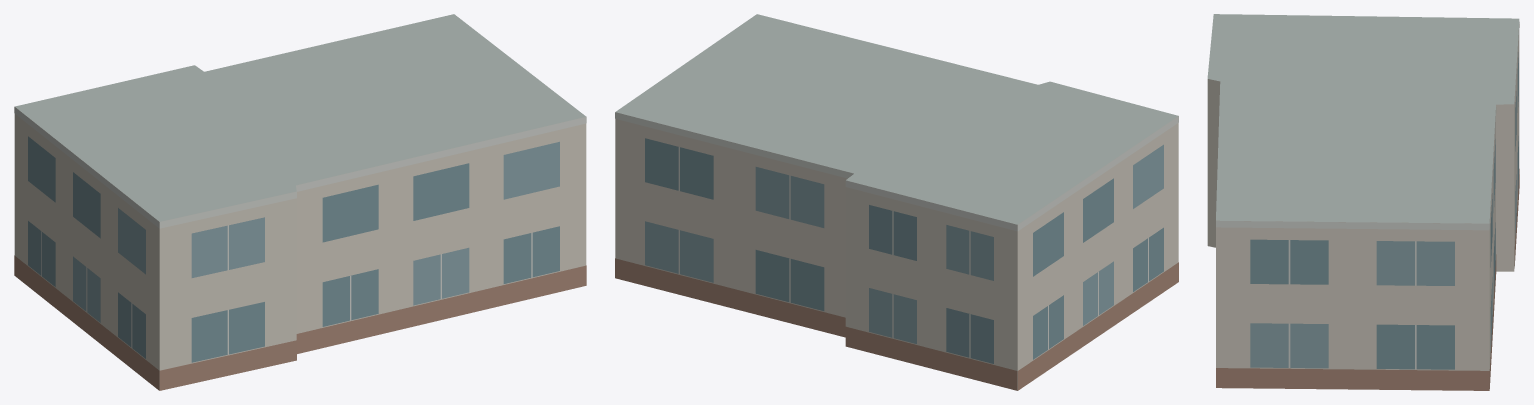
Rendered from survey-upis-32704175.glb.
3 renders of one model, left to right at view 1: azimuth 30°, elevation 25°; view 2: azimuth 150°, elevation 25°; view 3: azimuth 270°, elevation 25°, orthographic.
Visible parts, largest first — view 1: survey-upis-32704175.tmp; view 2: survey-upis-32704175.tmp; view 3: survey-upis-32704175.tmp.
Part boxes in pixels (bbox=[...]): survey-upis-32704175.tmp: bbox=[14, 14, 586, 390]; survey-upis-32704175.tmp: bbox=[615, 14, 1178, 390]; survey-upis-32704175.tmp: bbox=[1207, 14, 1519, 390].
Size of the model in its own units: 16.41 by 6.1 by 10.33.
